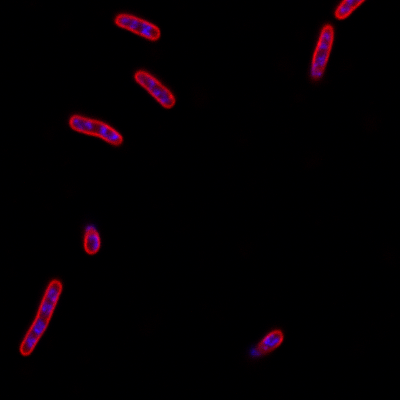Control: (19, 278, 64, 356), (68, 114, 123, 147), (133, 71, 176, 110), (113, 14, 161, 42)
Oblique: (308, 24, 335, 82), (249, 330, 285, 358), (82, 224, 101, 255)
